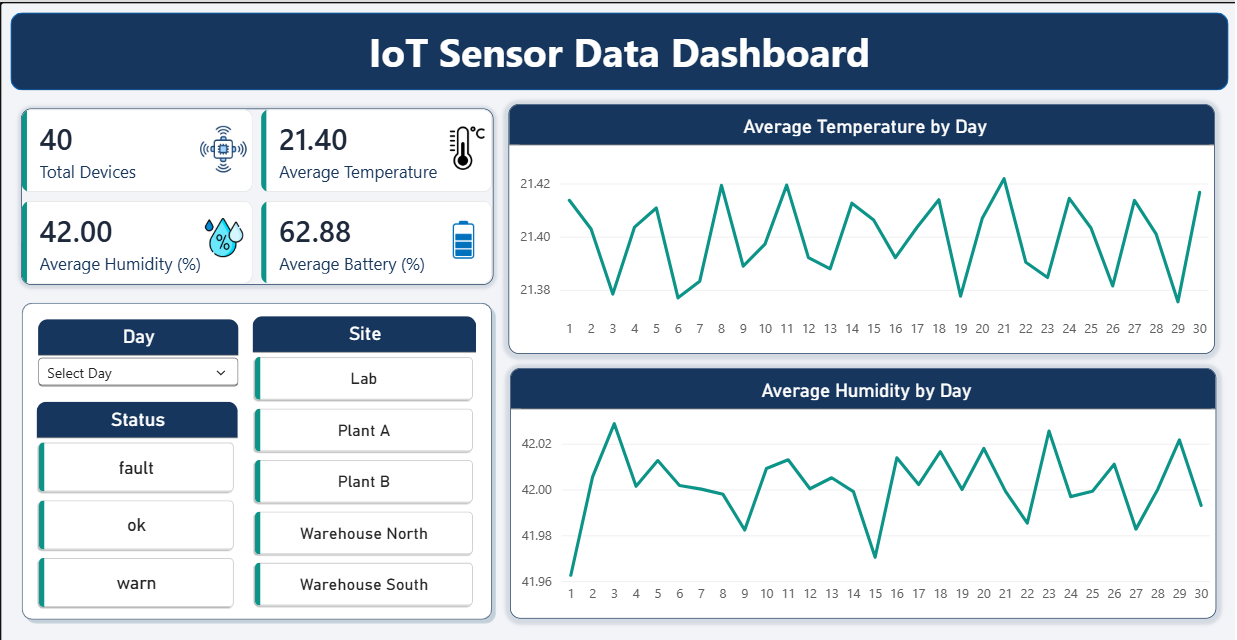

Layout of this report page (visuals, bound fields, positions):
{"tool":"powerbi","page":{"name":"Page 1","canvas":[1920,1080],"ordinal":0},"visuals":[{"type":"shape","box":[10,10,1160,74.3],"z":0},{"type":"cardVisual","fields":{"Data":["Count(mydatabase sensor_data.device_id)","Avg(mydatabase sensor_data.temperature_c)","Avg(mydatabase sensor_data.humidity_pct)","Avg(mydatabase sensor_data.battery_pct)"]},"box":[20,101.4,450,168],"z":1000},{"type":"textbox","box":[10,21.4,1160,51.4],"z":2000},{"type":"lineChart","title":"Average Temperature by Day","fields":{"Category":["mydatabase sensor_data.date.Variation.Date Hierarchy.Day"],"Y":["Avg(mydatabase sensor_data.temperature_c)"]},"box":[484.3,97.1,672.9,238],"z":3000},{"type":"lineChart","title":"Average Humidity by Day","fields":{"Category":["mydatabase sensor_data.date.Variation.Date Hierarchy.Day"],"Y":["Avg(mydatabase sensor_data.humidity_pct)"]},"box":[485.7,348.6,672.9,238.6],"z":4000},{"type":"shape","box":[15.7,281.4,458,312],"z":5000},{"type":"advancedSlicerVisual","title":"Site","fields":{"Values":["mydatabase sensor_data.site"]},"box":[240,298.6,214.3,280],"z":6000},{"type":"advancedSlicerVisual","title":"Status","fields":{"Values":["mydatabase sensor_data.status"]},"box":[34.3,380,192.9,200],"z":7000},{"type":"image","box":[175.7,117.1,74.3,45.7],"z":8000},{"type":"image","box":[410,118.6,70,41.4],"z":9000},{"type":"image","box":[182.9,205.7,61.4,37.1],"z":10000},{"type":"image","box":[411.4,205.7,60,41.4],"z":11000},{"type":"listSlicer","title":"Day","fields":{"Values":["mydatabase sensor_data.date.Variation.Date Hierarchy.Day"]},"box":[35.7,301.4,192,70],"z":12000}]}

Visuals, with their boxes on the page's 1920x1080 design canvas (x1, y1, x2, y2). These are canvas units, not pixel positions in the 1237x640 screenshot, which may show the page scaled, cropped or inside an application window:
shape: <region>10, 10, 1170, 84</region>
cardVisual - Count(mydatabase sensor_data.device_id) x Avg(mydatabase sensor_data.temperature_c): <region>20, 101, 470, 269</region>
textbox: <region>10, 21, 1170, 73</region>
"Average Temperature by Day" lineChart: <region>484, 97, 1157, 335</region>
"Average Humidity by Day" lineChart: <region>486, 349, 1159, 587</region>
shape: <region>16, 281, 474, 593</region>
"Site" advancedSlicerVisual: <region>240, 299, 454, 579</region>
"Status" advancedSlicerVisual: <region>34, 380, 227, 580</region>
image: <region>176, 117, 250, 163</region>
image: <region>410, 119, 480, 160</region>
image: <region>183, 206, 244, 243</region>
image: <region>411, 206, 471, 247</region>
"Day" listSlicer: <region>36, 301, 228, 371</region>
